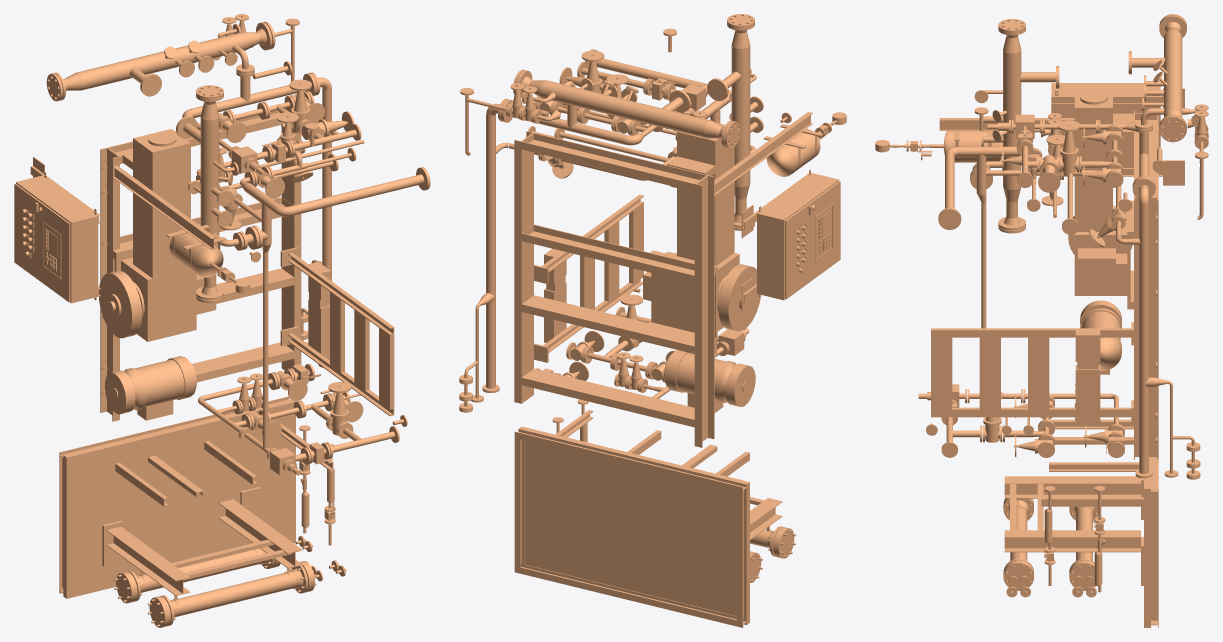
3 renders of one model, left to right at view 1: azimuth 30°, elevation 25°; view 2: azimuth 150°, elevation 25°; view 3: azimuth 270°, elevation 25°, orthographic.
Parts seen in each view (by area): view 1: /Copy-of-V1311A-BASE_COOLER-1, BOX 8 of SUBEQUIPMENT /Copy-of-V-1311A/MOTOR, BOX 53 of SUBEQUIPMENT /Copy-of-V-1311A/PAINEL_ELETRICO, BOX 6 of SUBEQUIPMENT /Copy-of-V-1311A/PAINEL_ELETRICO, BOX 7 of SUBEQUIPMENT /Copy-of-V-1311A/MOTOR, /Copy-of-V1311A-BASE_MAIN-MOTOR-3, CYLINDER 1 of SUBEQUIPMENT /Copy-of-V-1311A/UNIDADE_LUBRIFIC (×2), /Copy-of-V1311A-BASE_MAIN-MOTOR-2, CYLINDER 3 of SUBEQUIPMENT /Copy-of-V-1311A/VASO_DE_DESCARGA, /Copy-of-V1311A-SUP_OIL-COOLER-1, CYLINDER 3 of SUBEQUIPMENT /Copy-of-V-1311A/VASO_DE_SUCCAO, CYLINDER 13 of SUBEQUIPMENT /Copy-of-V-1311A/MOTOR (+27 smaller); view 2: /Copy-of-V1311A-BASE_COOLER-1, /Copy-of-V1311A-BASE_MAIN-MOTOR-3, /Copy-of-V1311A-BASE_MAIN-MOTOR-2, BOX 8 of SUBEQUIPMENT /Copy-of-V-1311A/MOTOR, BOX 6 of SUBEQUIPMENT /Copy-of-V-1311A/PAINEL_ELETRICO, BOX 53 of SUBEQUIPMENT /Copy-of-V-1311A/PAINEL_ELETRICO, /Copy-of-V1311A-BASE_MAIN-MOTOR-8, /Copy-of-V1311A-BASE_MAIN-MOTOR-6, /Copy-of-V1311A-BASE_MAIN-MOTOR-4, /Copy-of-V1311A-BASE_MAIN-MOTOR-5, CYLINDER 3 of SUBEQUIPMENT /Copy-of-V-1311A/VASO_DE_DESCARGA, BOX 5 of SUBEQUIPMENT /Copy-of-V-1311A/MOTOR (+24 smaller); view 3: /Copy-of-V1311A-BASE_MAIN-MOTOR-2, BOX 8 of SUBEQUIPMENT /Copy-of-V-1311A/MOTOR, /Copy-of-V1311A-SUP_OIL-COOLER-2, /Copy-of-V1311A-SUP_OIL-COOLER-1, BOX 53 of SUBEQUIPMENT /Copy-of-V-1311A/PAINEL_ELETRICO, CYLINDER 3 of SUBEQUIPMENT /Copy-of-V-1311A/VASO_DE_SUCCAO, /Copy-of-V1311A-SUP_INSTRUMENTS-GAUGE-3, /Copy-of-V1311A-SUP_INSTRUMENTS-GAUGE-1, BOX 6 of SUBEQUIPMENT /Copy-of-V-1311A/MOTOR, /Copy-of-V1311A-SUP_INSTRUMENTS-GAUGE-5, /Copy-of-V1311A-SUP_INSTRUMENTS-GAUGE-6, /Copy-of-V1311A-SUP_INSTRUMENTS-GAUGE-7 (+25 smaller).
Part boxes in pixels (x1,y1,x2,y2): /Copy-of-V1311A-BASE_COOLER-1: (63,400,295,598); BOX 8 of SUBEQUIPMENT /Copy-of-V-1311A/MOTOR: (133,129,190,278); BOX 53 of SUBEQUIPMENT /Copy-of-V-1311A/PAINEL_ELETRICO: (16,175,98,303); BOX 6 of SUBEQUIPMENT /Copy-of-V-1311A/PAINEL_ELETRICO: (14,183,70,302); BOX 7 of SUBEQUIPMENT /Copy-of-V-1311A/MOTOR: (121,257,196,341); /Copy-of-V1311A-BASE_MAIN-MOTOR-3: (100,147,119,421); CYLINDER 1 of SUBEQUIPMENT /Copy-of-V-1311A/UNIDADE_LUBRIFIC (×2): (169,229,296,616); /Copy-of-V1311A-BASE_MAIN-MOTOR-2: (281,127,301,370); CYLINDER 3 of SUBEQUIPMENT /Copy-of-V-1311A/VASO_DE_DESCARGA: (77,32,248,90); /Copy-of-V1311A-SUP_OIL-COOLER-1: (106,526,190,595); CYLINDER 3 of SUBEQUIPMENT /Copy-of-V-1311A/VASO_DE_SUCCAO: (200,117,219,247); CYLINDER 13 of SUBEQUIPMENT /Copy-of-V-1311A/MOTOR: (99,270,142,338); /Copy-of-V1311A-BASE_COOLER-1: (519,426,749,624); /Copy-of-V1311A-BASE_MAIN-MOTOR-3: (694,175,714,447); /Copy-of-V1311A-BASE_MAIN-MOTOR-2: (514,131,533,403); BOX 8 of SUBEQUIPMENT /Copy-of-V-1311A/MOTOR: (677,122,734,265); BOX 6 of SUBEQUIPMENT /Copy-of-V-1311A/PAINEL_ELETRICO: (785,181,840,299); BOX 53 of SUBEQUIPMENT /Copy-of-V-1311A/PAINEL_ELETRICO: (757,173,839,300); /Copy-of-V1311A-BASE_MAIN-MOTOR-8: (521,133,706,191); /Copy-of-V1311A-BASE_MAIN-MOTOR-6: (521,224,694,283); /Copy-of-V1311A-BASE_MAIN-MOTOR-4: (521,368,694,427); /Copy-of-V1311A-BASE_MAIN-MOTOR-5: (521,295,694,353); CYLINDER 3 of SUBEQUIPMENT /Copy-of-V-1311A/VASO_DE_DESCARGA: (540,80,709,137); BOX 5 of SUBEQUIPMENT /Copy-of-V-1311A/MOTOR: (651,250,717,345); /Copy-of-V1311A-BASE_MAIN-MOTOR-2: (1134,197,1158,459); BOX 8 of SUBEQUIPMENT /Copy-of-V-1311A/MOTOR: (1074,89,1112,231); /Copy-of-V1311A-SUP_OIL-COOLER-2: (1004,530,1140,552); /Copy-of-V1311A-SUP_OIL-COOLER-1: (1004,476,1140,498); BOX 53 of SUBEQUIPMENT /Copy-of-V-1311A/PAINEL_ELETRICO: (1051,83,1160,167); CYLINDER 3 of SUBEQUIPMENT /Copy-of-V-1311A/VASO_DE_SUCCAO: (1003,50,1021,189); /Copy-of-V1311A-SUP_INSTRUMENTS-GAUGE-3: (931,328,1131,337); /Copy-of-V1311A-SUP_INSTRUMENTS-GAUGE-1: (931,407,1131,417); BOX 6 of SUBEQUIPMENT /Copy-of-V-1311A/MOTOR: (1078,248,1115,292); /Copy-of-V1311A-SUP_INSTRUMENTS-GAUGE-5: (931,337,952,409); /Copy-of-V1311A-SUP_INSTRUMENTS-GAUGE-6: (979,337,1000,409); /Copy-of-V1311A-SUP_INSTRUMENTS-GAUGE-7: (1028,337,1049,409).
Bounding box in the file's own units: 3.27 × 5.34 × 3.04.
